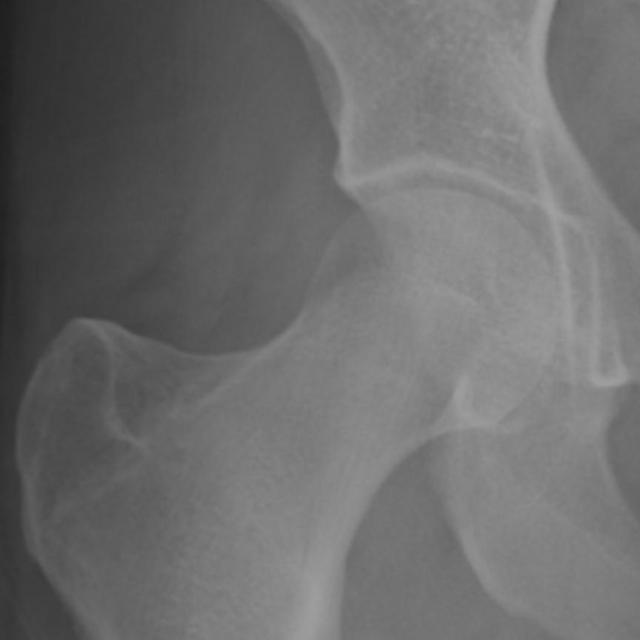Fitted_femural_head: (263, 188, 432, 263)
